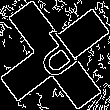P_SE: (25, 24, 85, 86)
